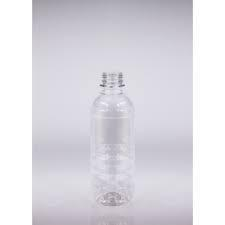bottle: (86, 70, 138, 212)
